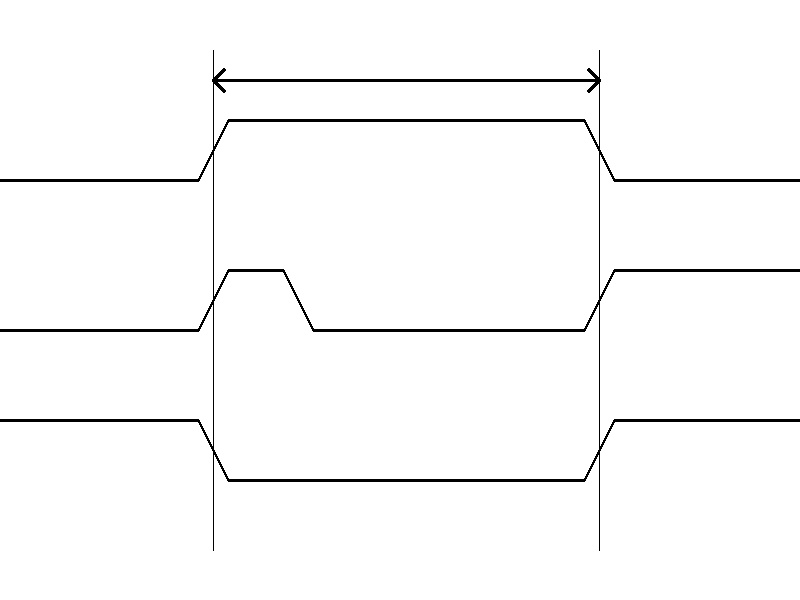double_arrow: (213, 65, 599, 95)
